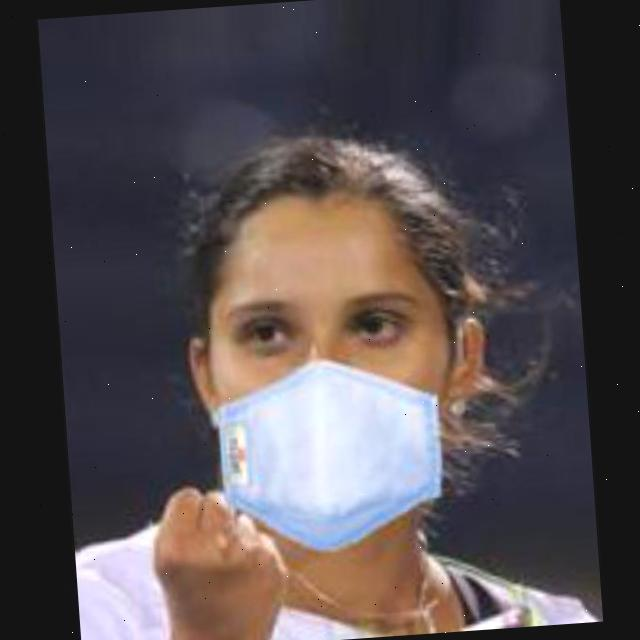suspicion: (187, 147, 503, 550)
